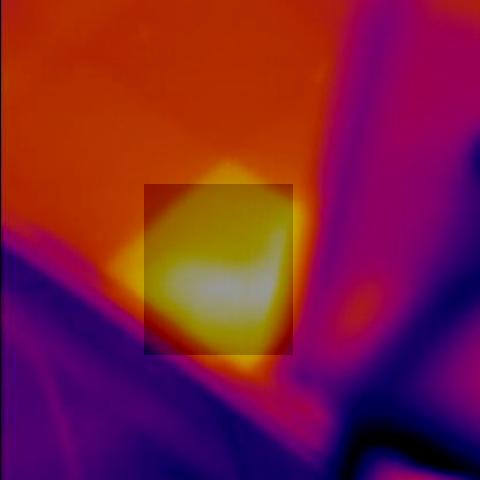fault: (144, 184, 293, 355)
